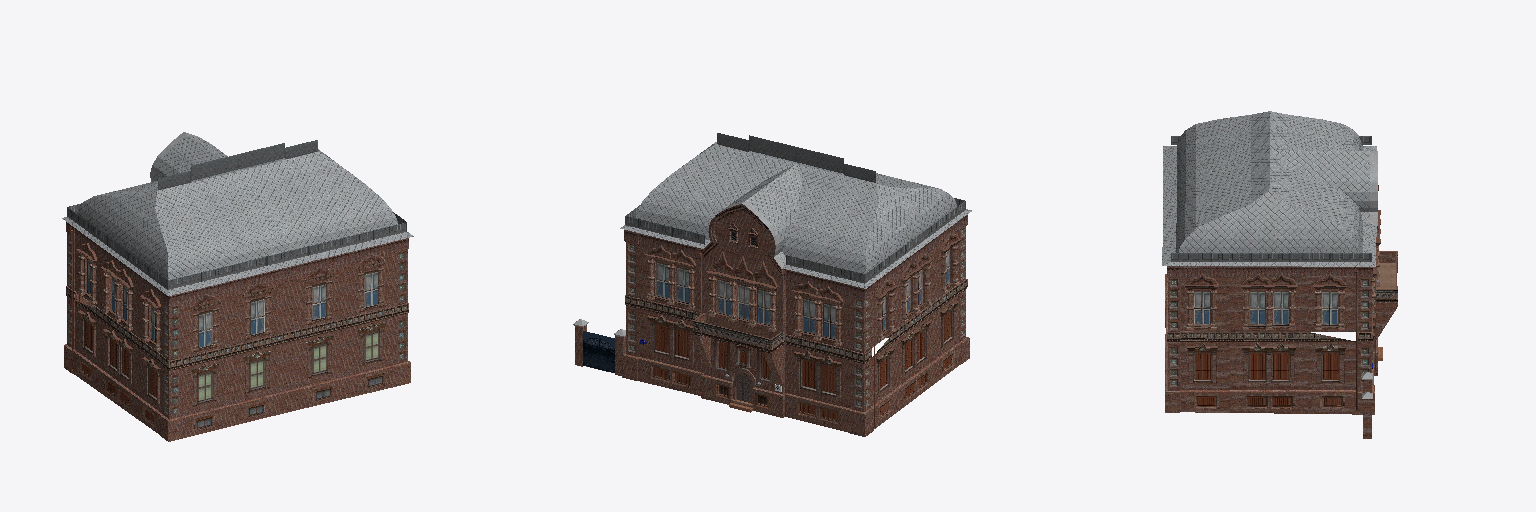
The picture shows the model from 3 angles: view 1: azimuth 30°, elevation 25°; view 2: azimuth 150°, elevation 25°; view 3: azimuth 270°, elevation 25°; orthographic projection.
Parts seen in each view (by area): view 1: rathaus; view 2: rathaus; view 3: rathaus.
Boxes of the visible parts, box(x1,y1,x2,y2) form: rathaus: box(62, 132, 413, 441); rathaus: box(573, 133, 971, 436); rathaus: box(1162, 111, 1397, 438).
Bounding box in the file's own units: 6.09 × 4.35 × 4.18.
3 materials, 2 textured.